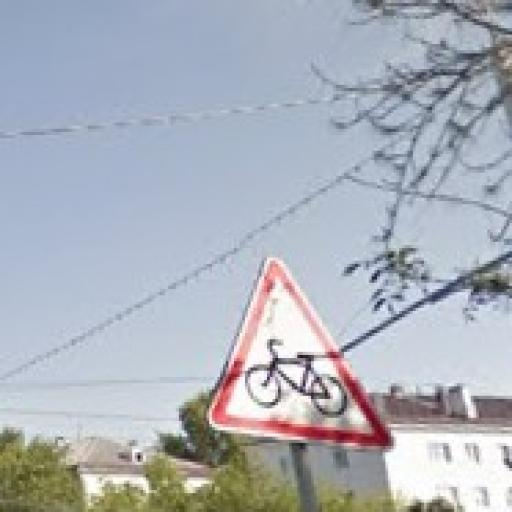traffic_sign: (208, 259, 398, 453)
